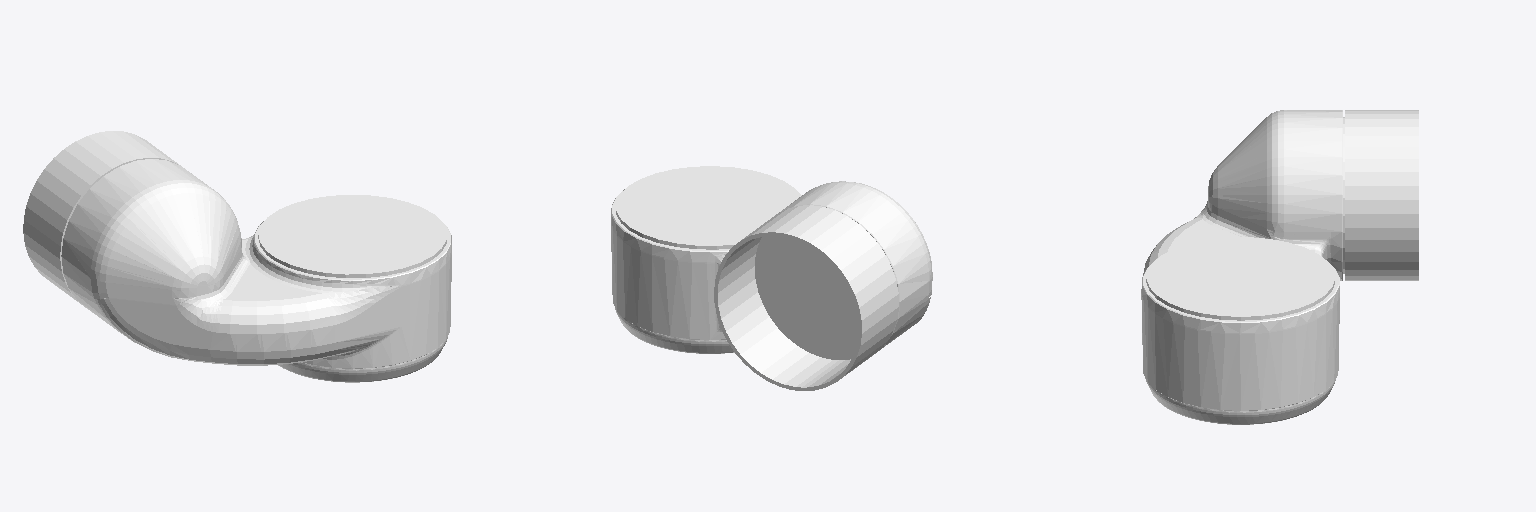
File: shoulder_pan_link.obj
The picture shows the model from 3 angles: view 1: azimuth 30°, elevation 25°; view 2: azimuth 150°, elevation 25°; view 3: azimuth 270°, elevation 25°; orthographic projection.
Bounding box in the file's own units: 0.2295 × 0.1265 × 0.1685.